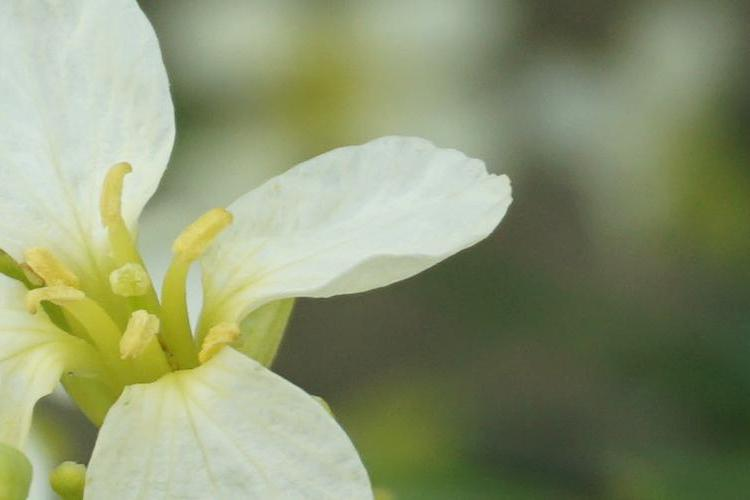white: (3, 3, 508, 496)
